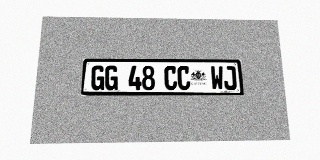4: (128, 66, 142, 90)
8: (142, 66, 155, 90)
C: (164, 66, 177, 90), (177, 66, 190, 90)
G: (91, 65, 105, 90), (104, 65, 118, 90)
J: (223, 66, 237, 90)
W: (210, 66, 224, 90)
